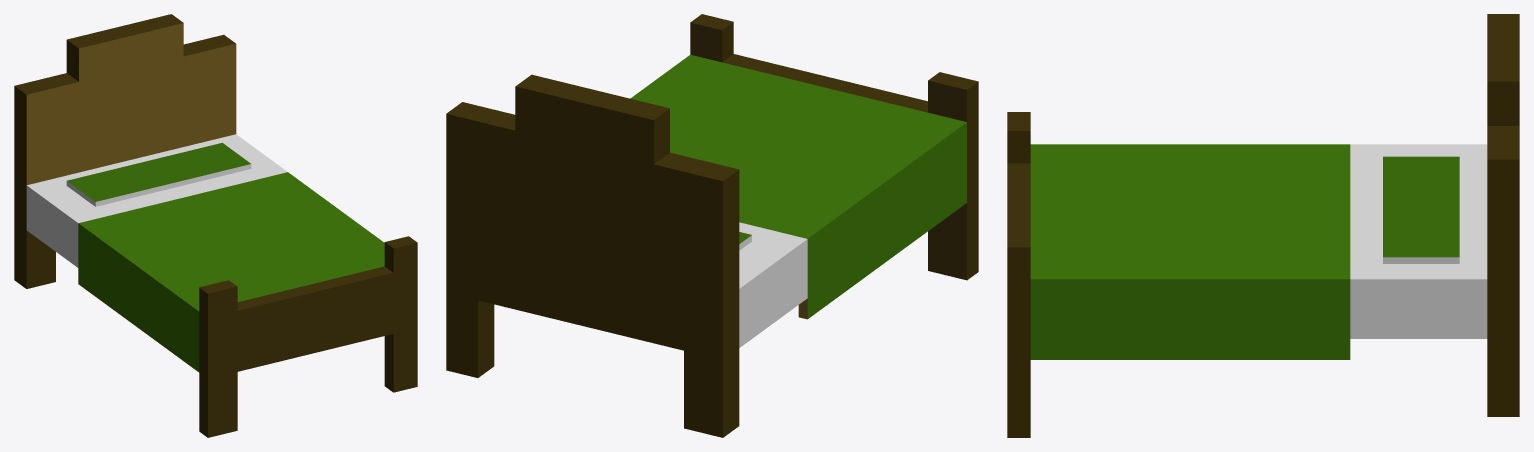
The model's file is BedLoneManor.fbx.
The picture shows the model from 3 angles, left to right: view 1: azimuth 30°, elevation 25°; view 2: azimuth 150°, elevation 25°; view 3: azimuth 270°, elevation 25°; orthographic projection. The views are drawn at different scales.
Visible parts, largest first — view 1: pCube1; view 2: pCube1; view 3: pCube1.
Boxes of the visible parts, x1,y1,x2,y2 form: pCube1: (14, 14, 417, 437); pCube1: (446, 14, 978, 437); pCube1: (1007, 14, 1519, 437).
Bounding box in the file's own units: 6.5 × 7.22 × 10.4.
